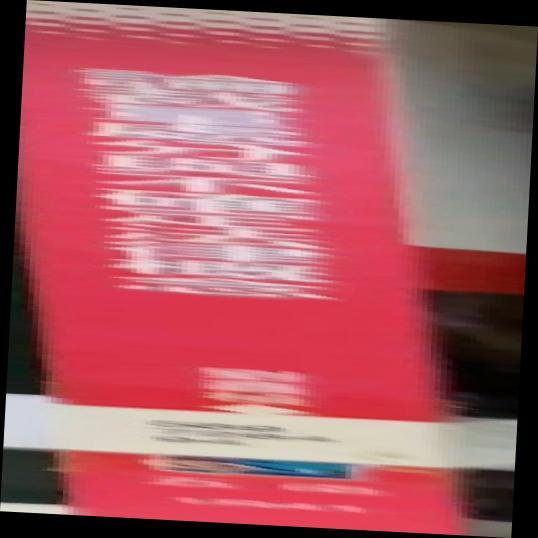book: (1, 1, 538, 538)
